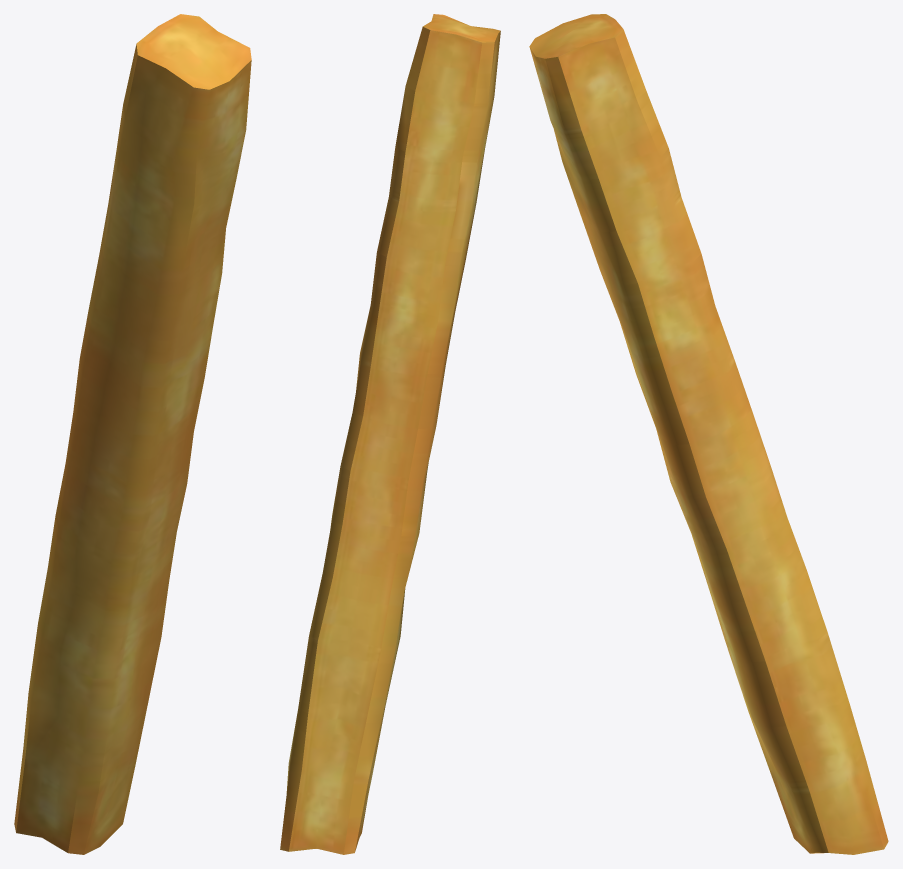
Rendered from Patates.fbx.
The picture shows the model from 3 angles, left to right: view 1: azimuth 30°, elevation 25°; view 2: azimuth 150°, elevation 25°; view 3: azimuth 270°, elevation 25°; orthographic projection. The views are drawn at different scales.
Parts seen in each view (by area): view 1: Cube.030; view 2: Cube.030; view 3: Cube.030.
Part boxes in pixels (x1,y1,x2,y2): Cube.030: [14, 14, 251, 854]; Cube.030: [280, 14, 500, 854]; Cube.030: [529, 14, 888, 854].
Bounding box in the file's own units: 2.31 × 16.7 × 6.68.
Materials: 1 (1 with a texture image).
